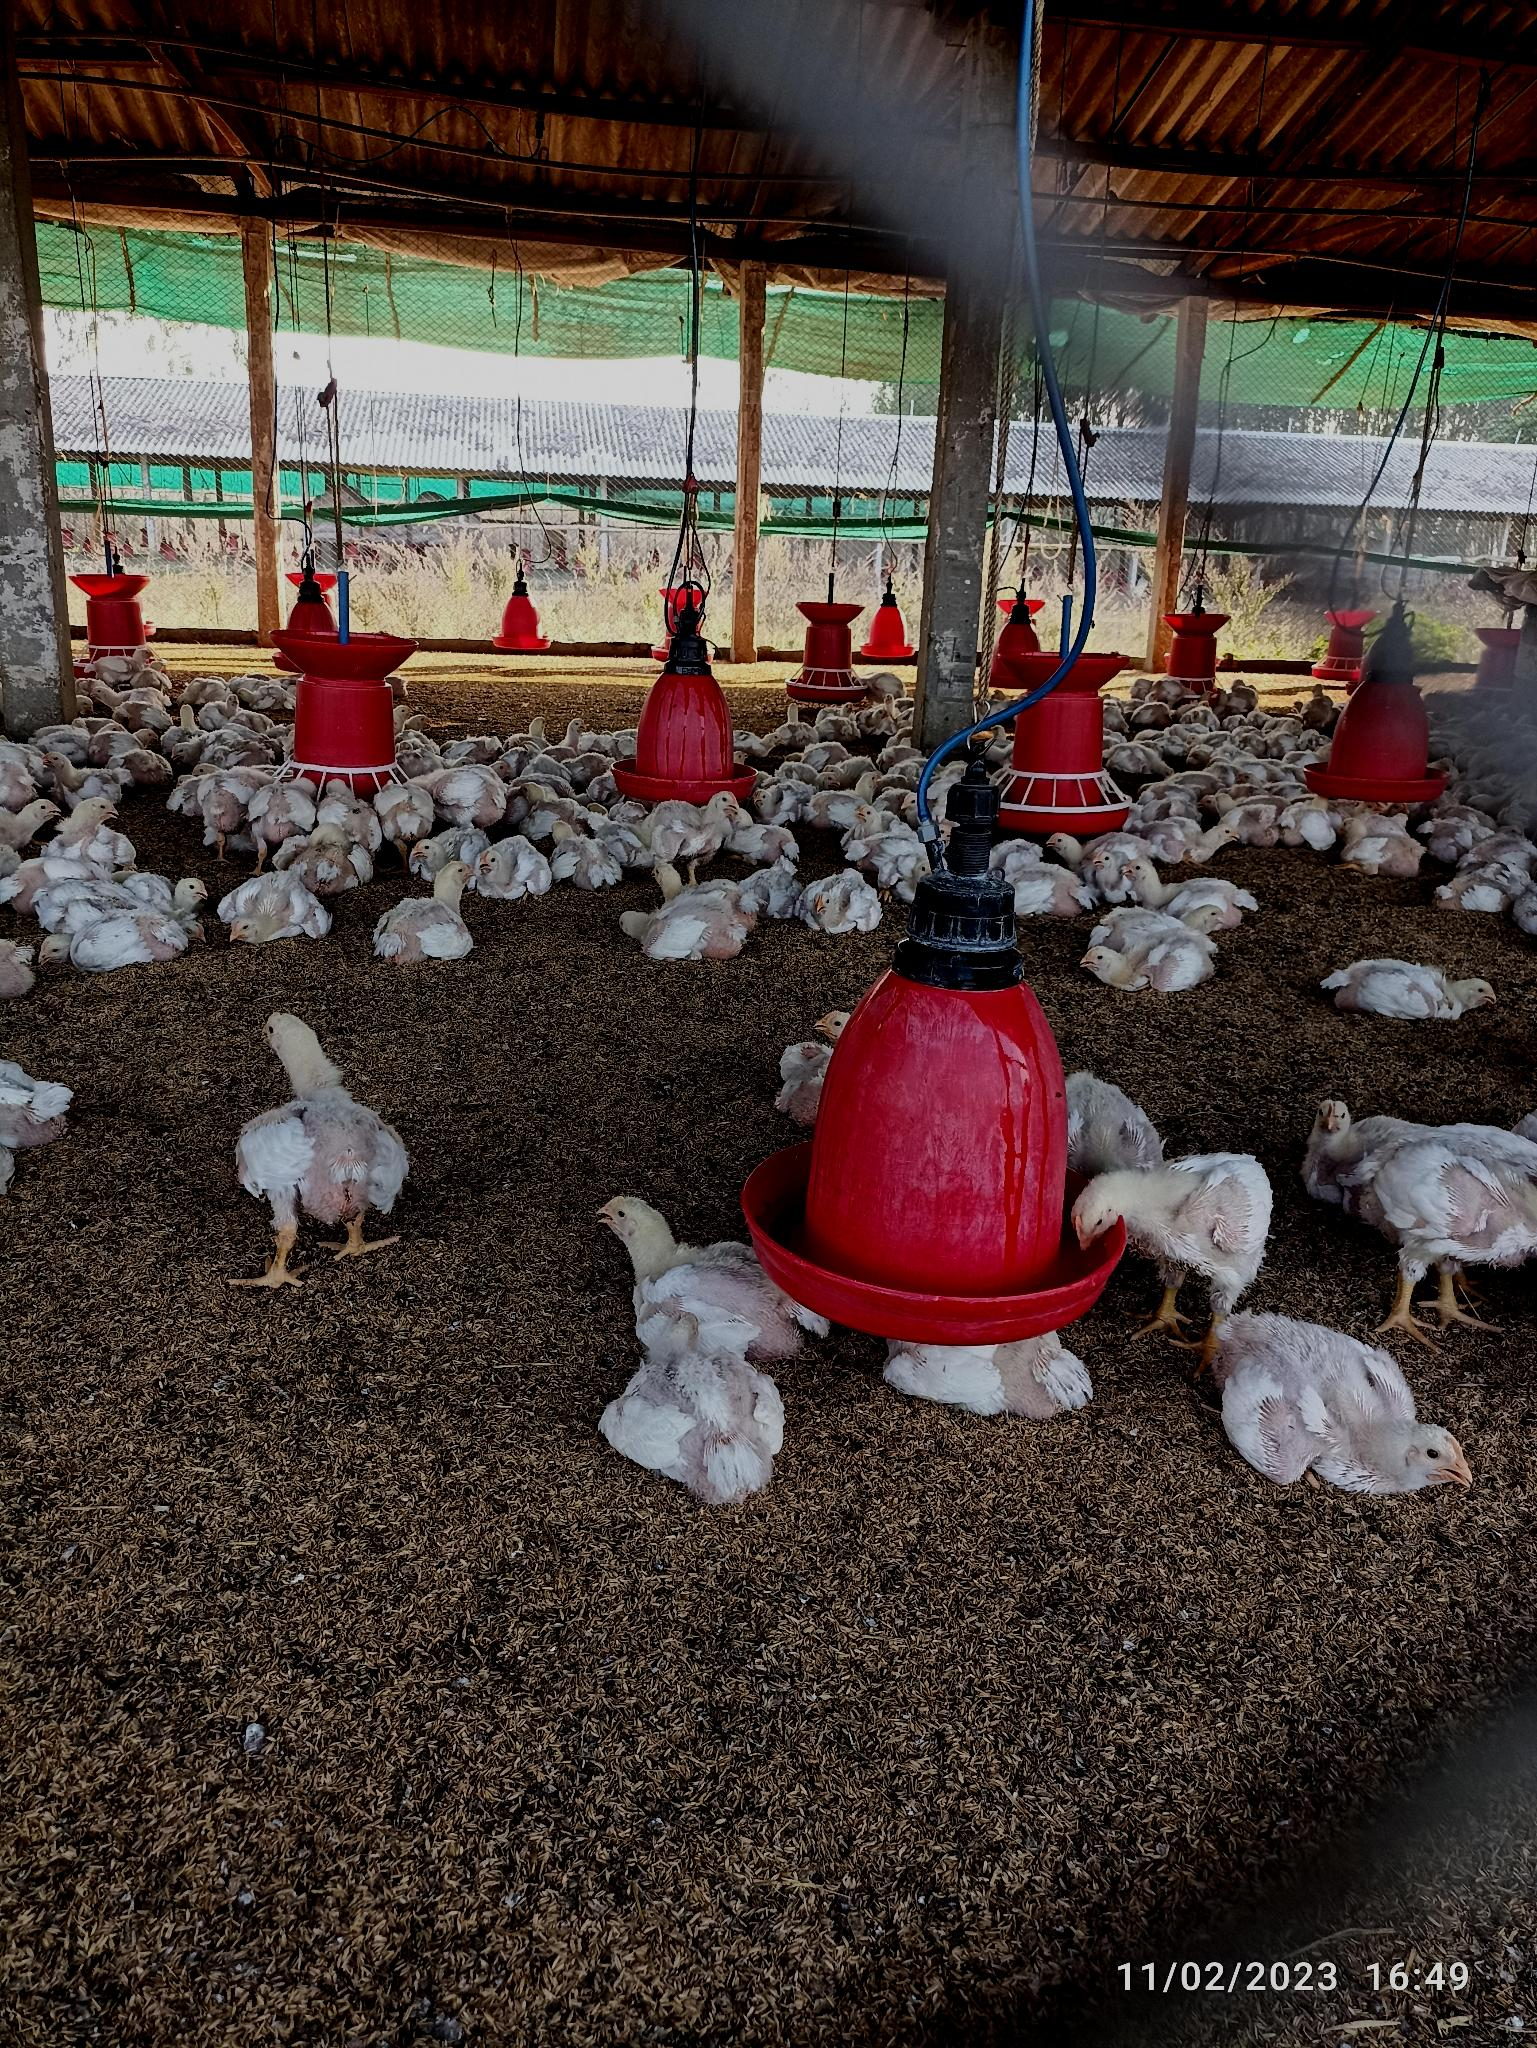Pollos: (1204, 1309, 1489, 1499), (216, 1009, 420, 1212), (1293, 1093, 1537, 1259), (596, 1293, 785, 1503), (1070, 1144, 1264, 1275), (1321, 954, 1508, 1034), (1080, 909, 1237, 991), (381, 868, 494, 972), (216, 868, 341, 954), (625, 881, 752, 959), (799, 875, 891, 939)
